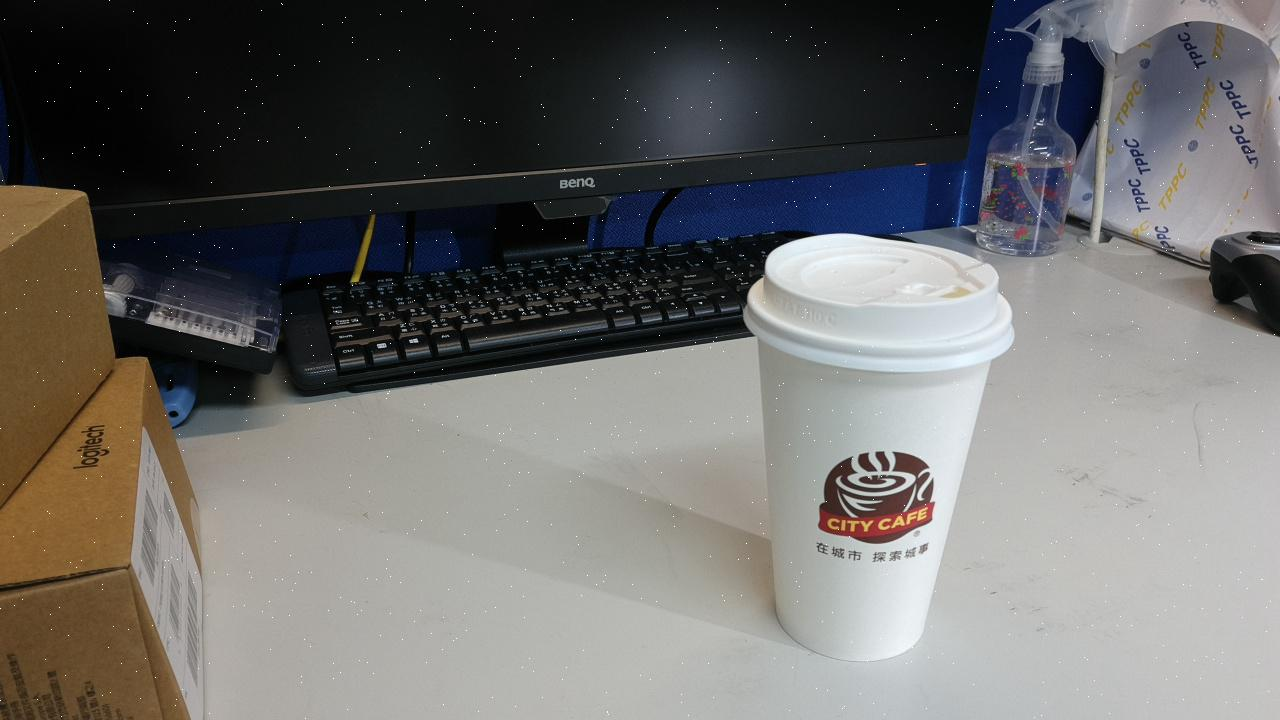columnar: (586, 385, 832, 698)
grip: (504, 458, 595, 636)
